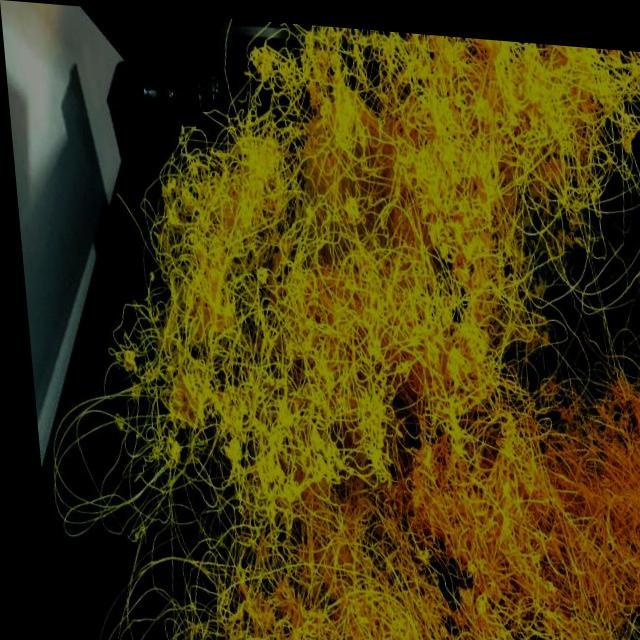spaghetti: (314, 21, 640, 327), (126, 234, 332, 640), (294, 299, 516, 640), (135, 8, 397, 294), (486, 299, 640, 640)
